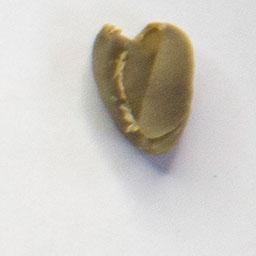peaberry: (88, 17, 199, 158)
